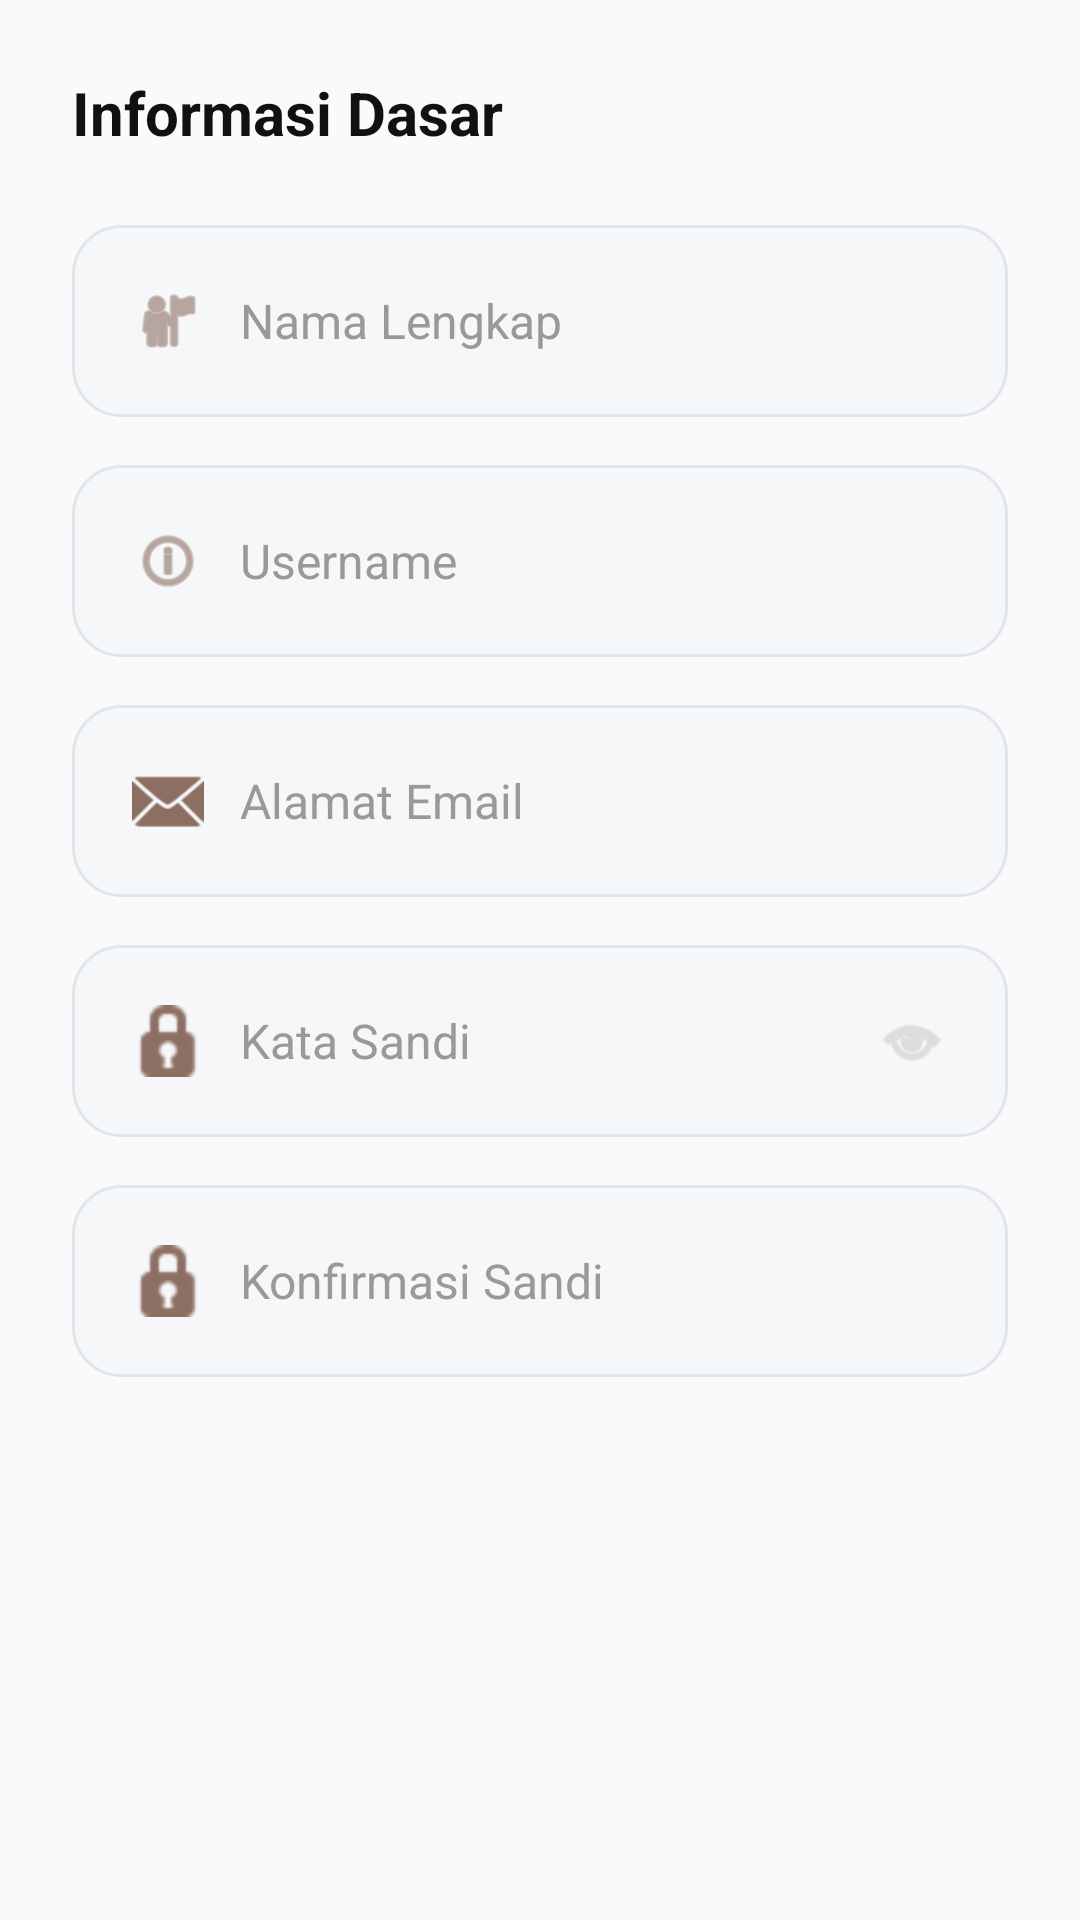

Screen size 1080px×1920px. Icon name, then its center in pixels as (x=x, y=y):
info details: (x=168, y=561)
myplaces: (x=169, y=321)
secure: (x=168, y=1041), (x=168, y=1281)
view: (x=912, y=1042)
